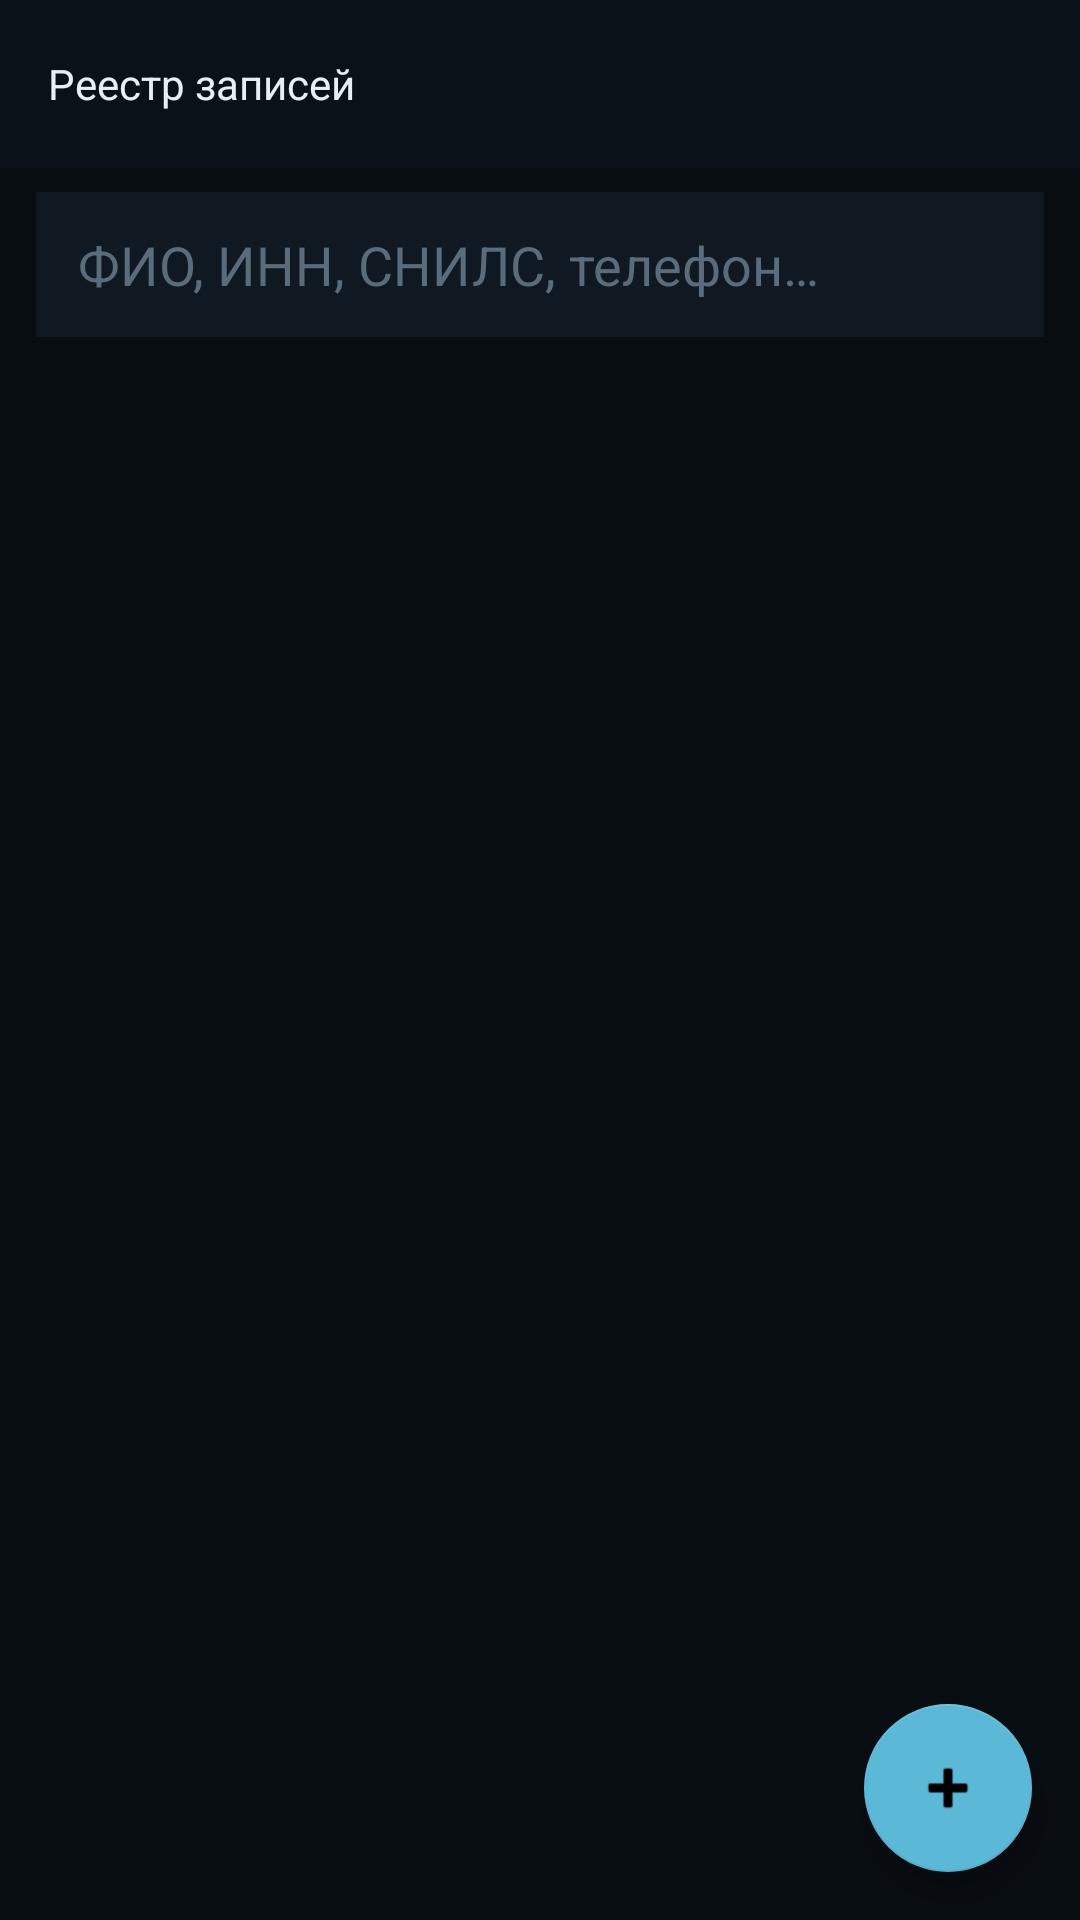

Locate icon controls on the screen. Image size 1080px×1920px, boxes as (x1, y1, x2, y2).
Добавить запись: (864, 1704, 1032, 1872)
